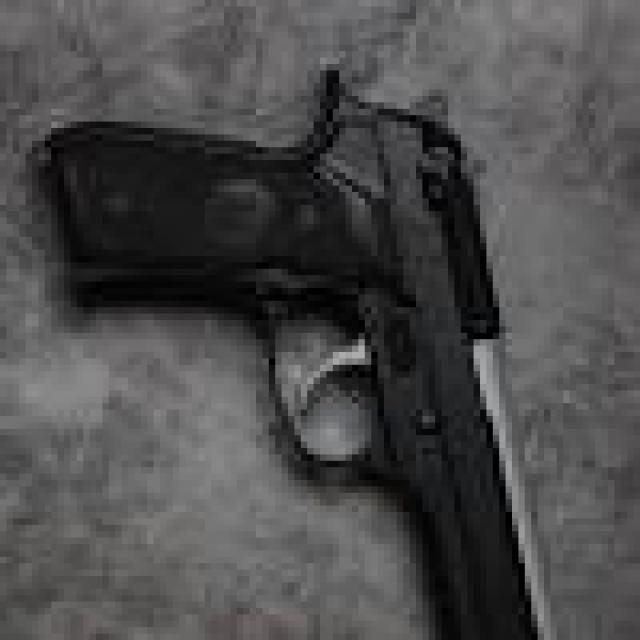Gun: (11, 68, 629, 640)
